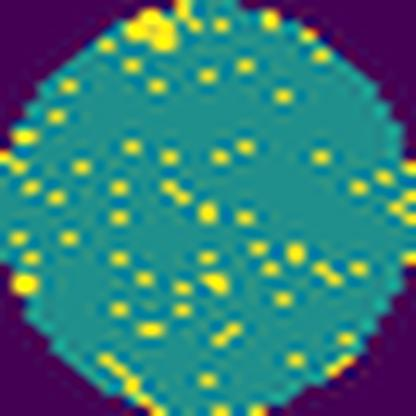Edge-Loc: (118, 9, 182, 51)
